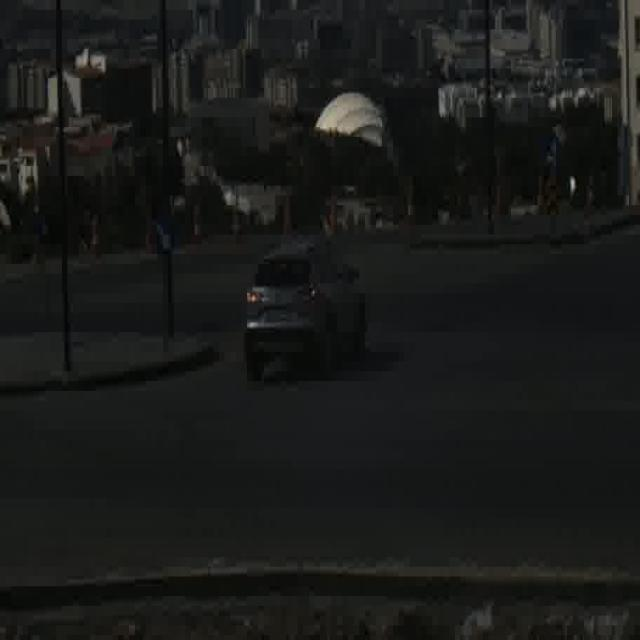Car: (247, 238, 364, 390)
